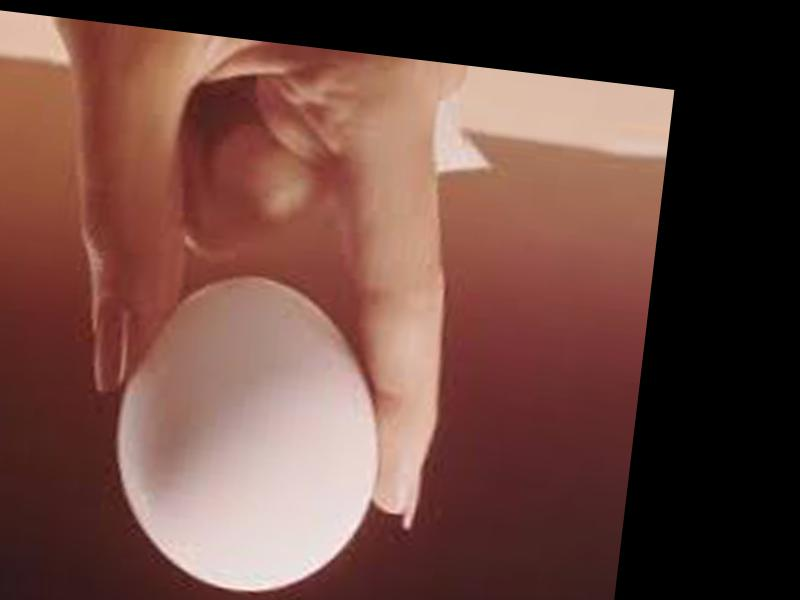Eggs: (99, 261, 401, 600)
